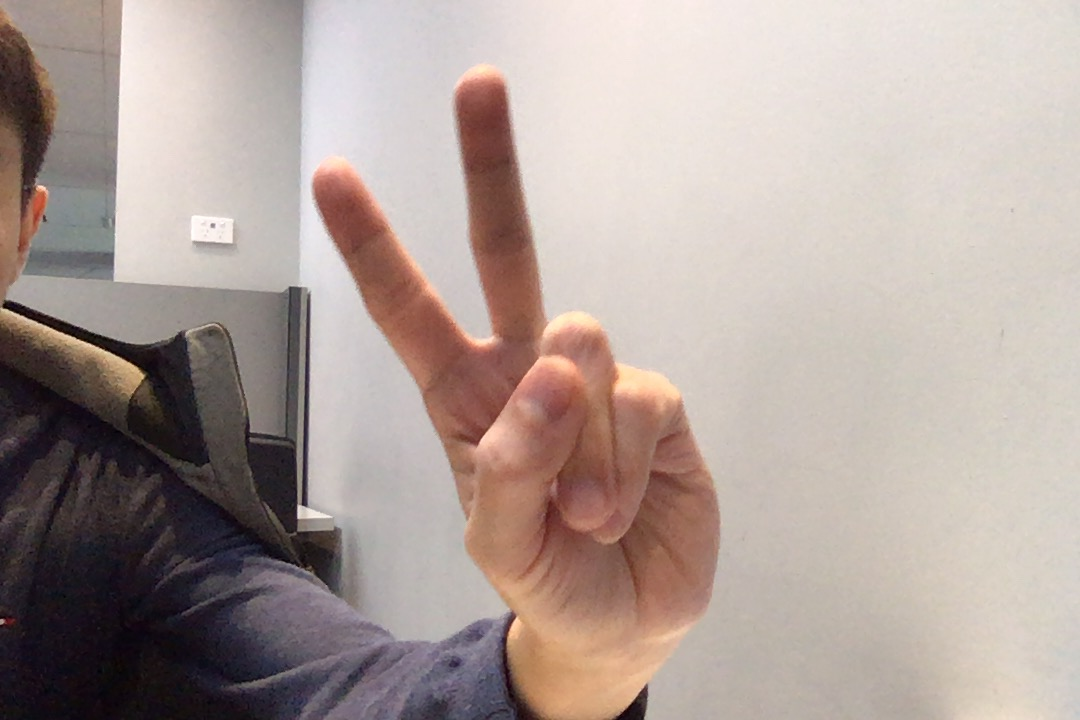peacesign: (305, 58, 750, 652)
